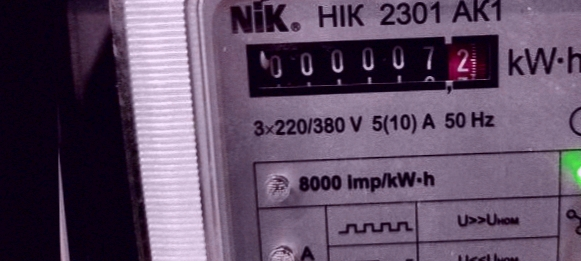0: (328, 47, 346, 75), (298, 50, 315, 78), (390, 43, 406, 72), (267, 53, 284, 80), (360, 45, 375, 72)
2: (455, 46, 471, 75)
7: (420, 44, 436, 73)
screen: (237, 26, 512, 104)
